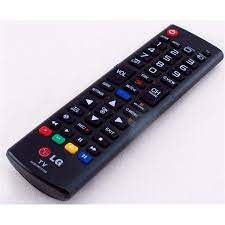remote control: (0, 23, 225, 225)
